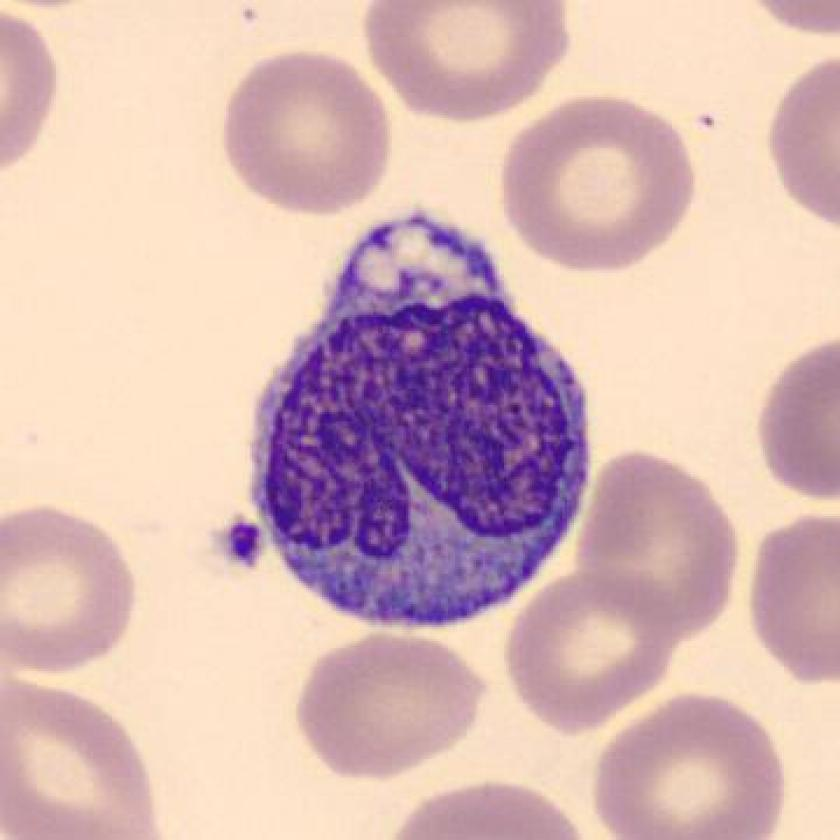monocyte: (223, 200, 617, 649)
